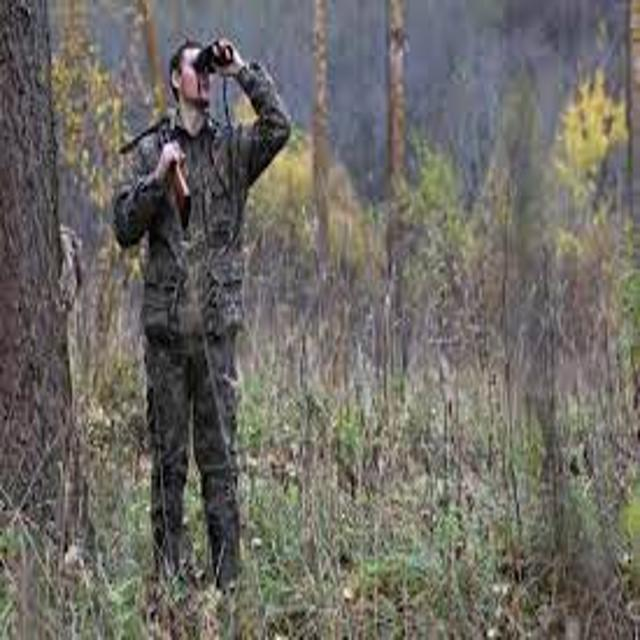poacher: (76, 18, 369, 609)
